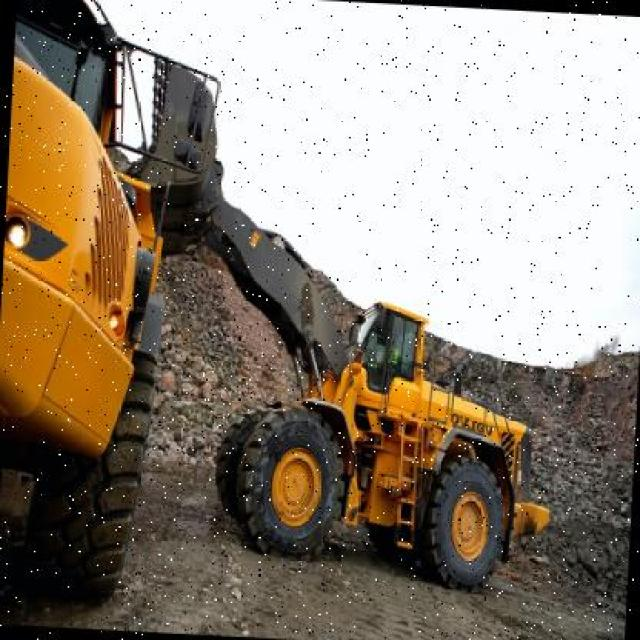buldozerpayloadergrader: (130, 52, 576, 596)
